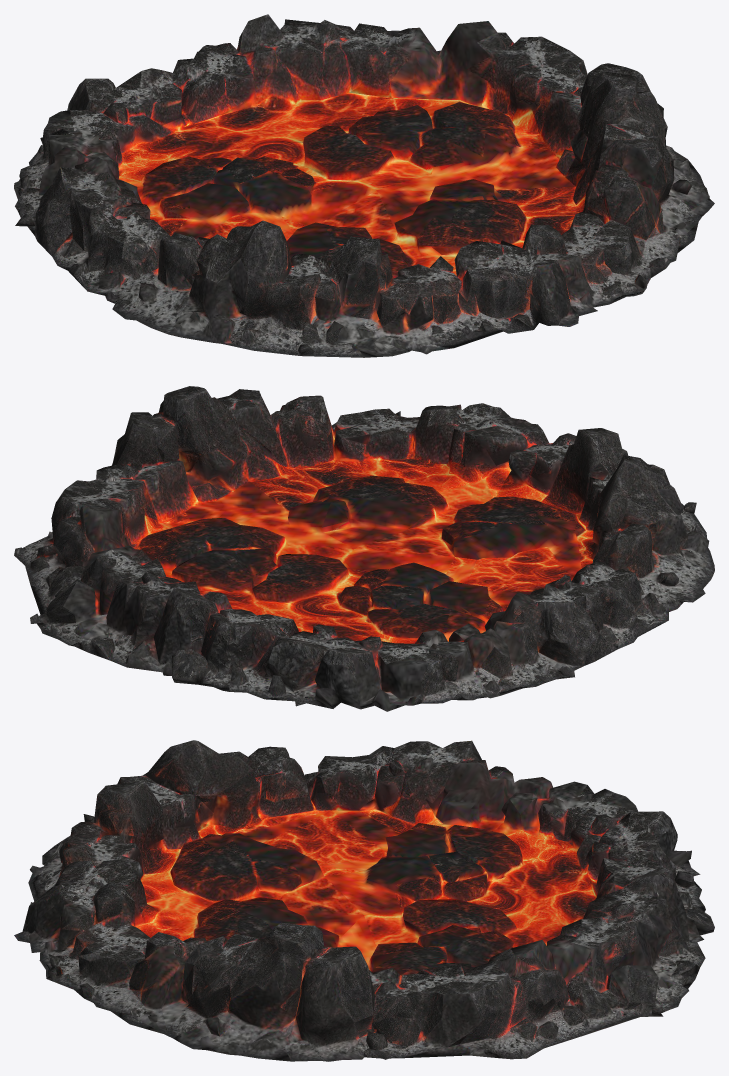
Rendered from lava_pit.glb.
The picture shows the model from 3 angles, top to bottom: view 1: azimuth 30°, elevation 25°; view 2: azimuth 150°, elevation 25°; view 3: azimuth 270°, elevation 25°; orthographic projection. The views are drawn at different scales.
Visible parts, largest first — view 1: lava_pit; view 2: lava_pit; view 3: lava_pit.
Part boxes in pixels (x1,y1,x2,y2): lava_pit: (14, 14, 714, 357); lava_pit: (14, 386, 714, 711); lava_pit: (14, 740, 714, 1061).
Size of the model in its own units: 181 by 29.81 by 189.
1 material, 1 textured.
